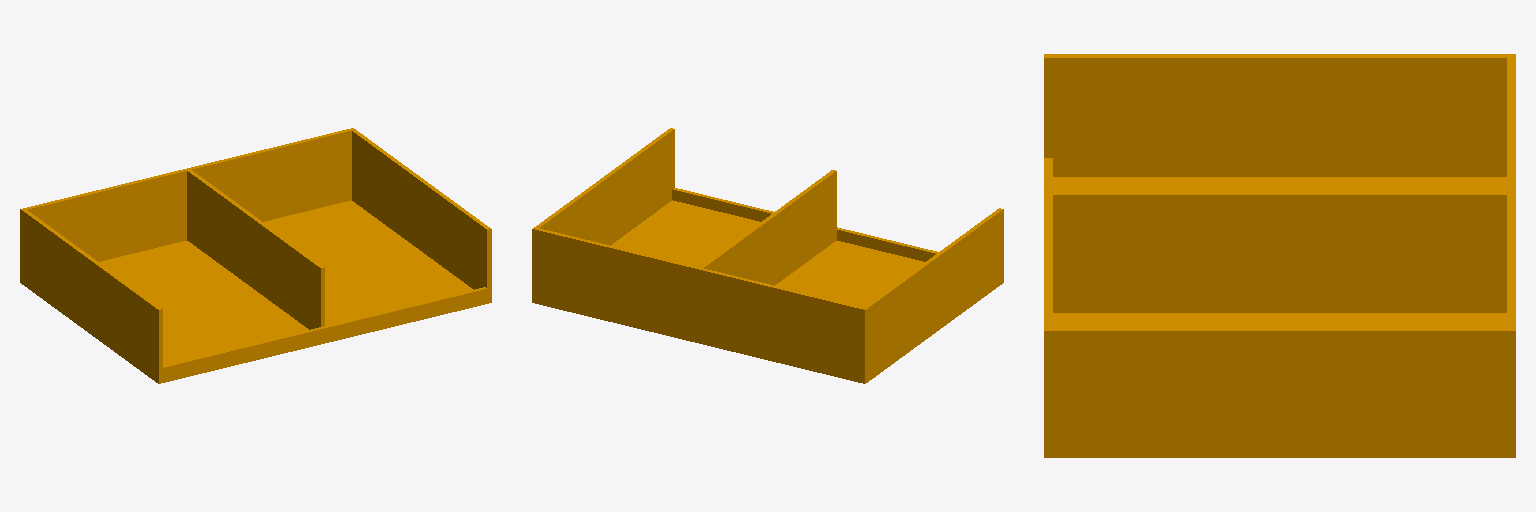
The robot description file, URDF, robot "bin":
<?xml version="1.0"?>
<robot name="bin">
  <link name="base_link">
    <visual>
      <geometry>
        <mesh filename="package://urdf_tutorial/CAD/bin_21.stl"/>
      </geometry>
      <origin rpy="0 0 0" xyz="0 0 0"/>
    </visual>
  </link>
</robot>

--- Render facts (derived) ---
3 views of the same robot in one strip: view 1: azimuth 30°, elevation 25°; view 2: azimuth 150°, elevation 25°; view 3: azimuth 270°, elevation 25° (orthographic).
Model bin with 1 links and 0 joints (none), rooted at base_link, posed every joint at zero.
Visible links, largest first — view 1: base_link; view 2: base_link; view 3: base_link.
Link boxes in pixels (x1,y1,x2,y2): base_link: (20,128,491,383); base_link: (532,128,1003,383); base_link: (1044,54,1515,457).
Size in the robot's own frame: 0.8 by 0.575 by 0.17 metres.
Meshes: 1 distinct files referenced, 1 mesh visuals loaded (1 binary STL).